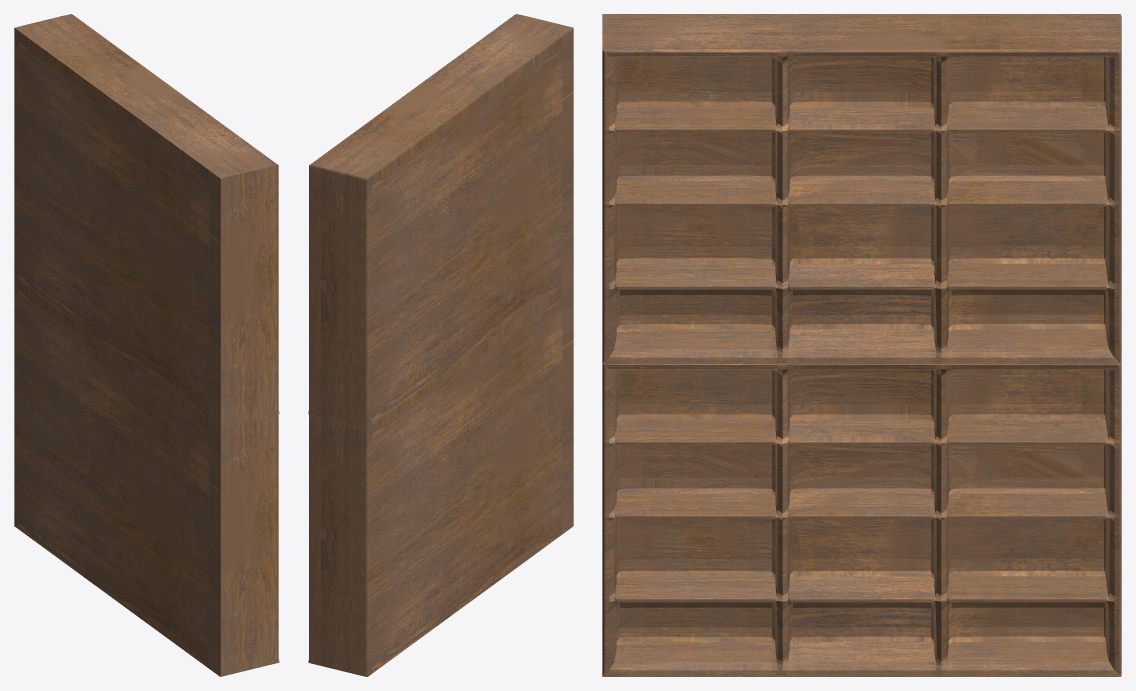
File: Bookcase1.fbx
The picture shows the model from 3 angles, left to right: view 1: azimuth 30°, elevation 25°; view 2: azimuth 150°, elevation 25°; view 3: azimuth 270°, elevation 25°; orthographic projection. The views are drawn at different scales.
Parts seen in each view (by area): view 1: Cube; view 2: Cube; view 3: Cube.
Boxes of the visible parts, box(x1,y1,x2,y2) form: Cube: box(14, 14, 279, 676); Cube: box(308, 14, 573, 676); Cube: box(602, 14, 1121, 676).
Size of the model in its own units: 91.44 by 730 by 549.
